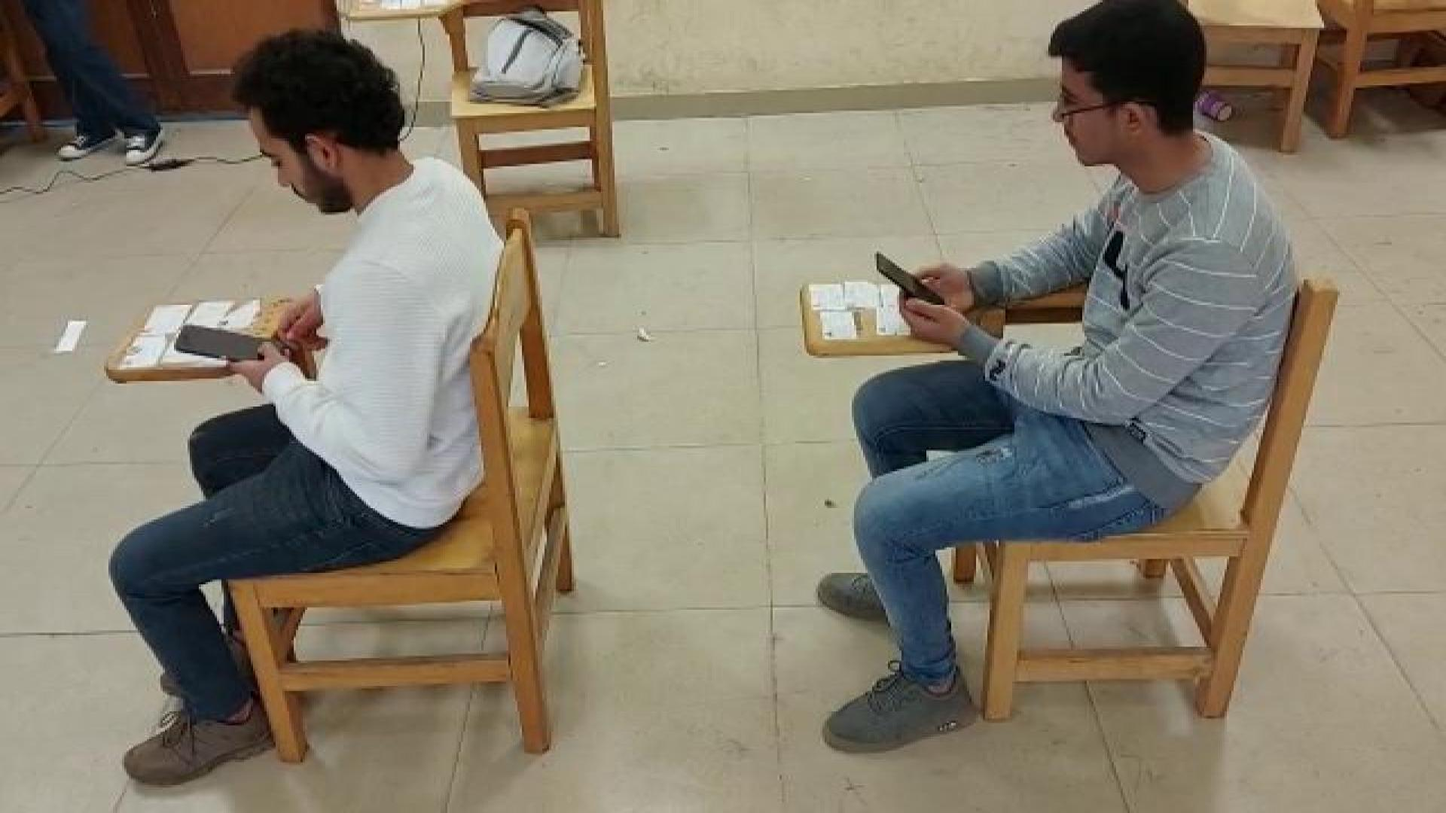phone: (872, 250, 958, 312), (172, 321, 287, 365)
